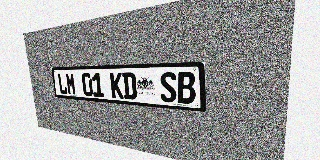0: (81, 73, 93, 96)
1: (91, 73, 104, 97)
B: (177, 72, 196, 104)
D: (122, 72, 137, 100)
K: (110, 72, 124, 99)
L: (57, 73, 68, 94)
M: (65, 73, 76, 95)
S: (159, 72, 177, 103)
